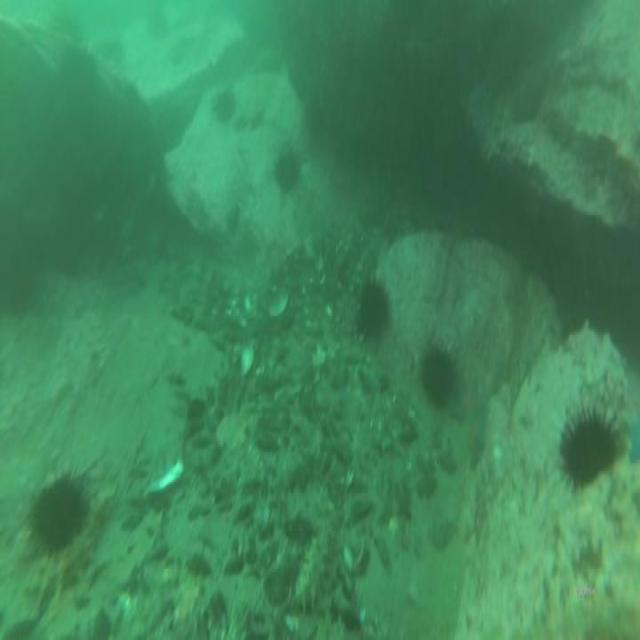echinus: (30, 480, 90, 553), (563, 414, 617, 487), (359, 282, 389, 342), (423, 354, 456, 406), (274, 155, 300, 191), (216, 93, 234, 122)
holothurian: (297, 515, 331, 613)
